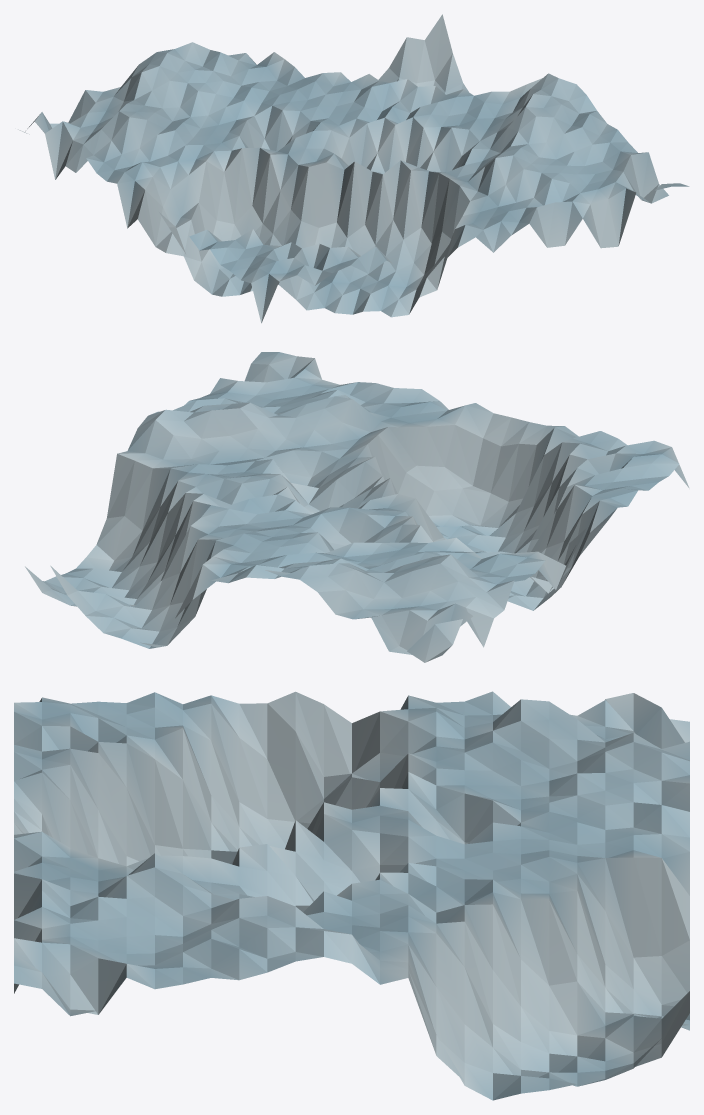
Rendered from polar_lod2.glb.
3 renders of one model, top to bottom at view 1: azimuth 30°, elevation 25°; view 2: azimuth 150°, elevation 25°; view 3: azimuth 270°, elevation 25°, orthographic. The views are drawn at different scales.
Parts seen in each view (by area): view 1: world; view 2: world; view 3: world.
Part boxes in pixels (x1=…): world: x1=18, y1=14, x2=689, y2=323; world: x1=25, y1=352, x2=689, y2=662; world: x1=14, y1=691, x2=689, y2=1100.
Size of the model in its own units: 2 by 0.5691 by 2.
